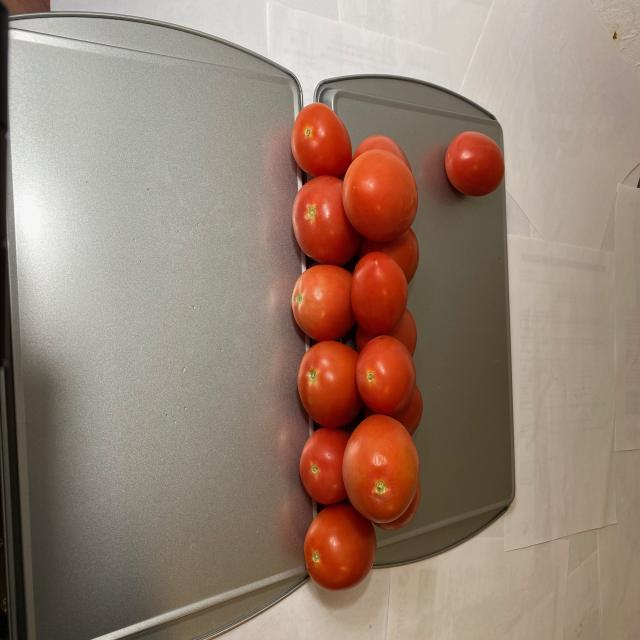tomato: (288, 103, 422, 602), (442, 125, 505, 204)
